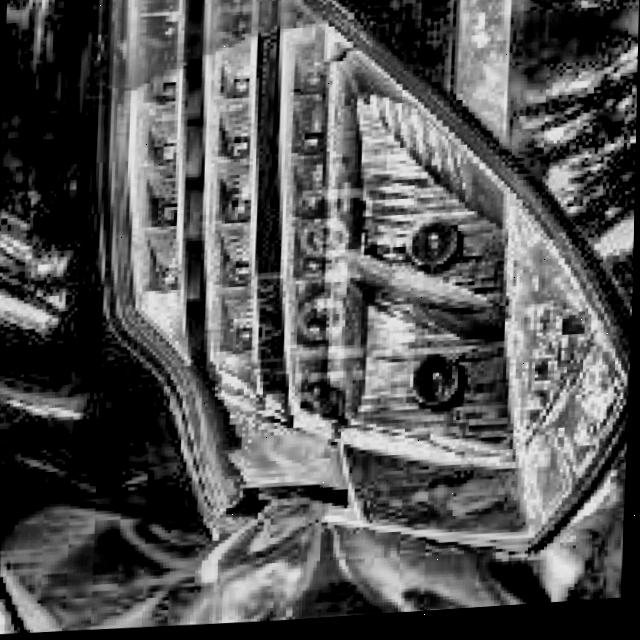head_lamp: (325, 285, 588, 461)
